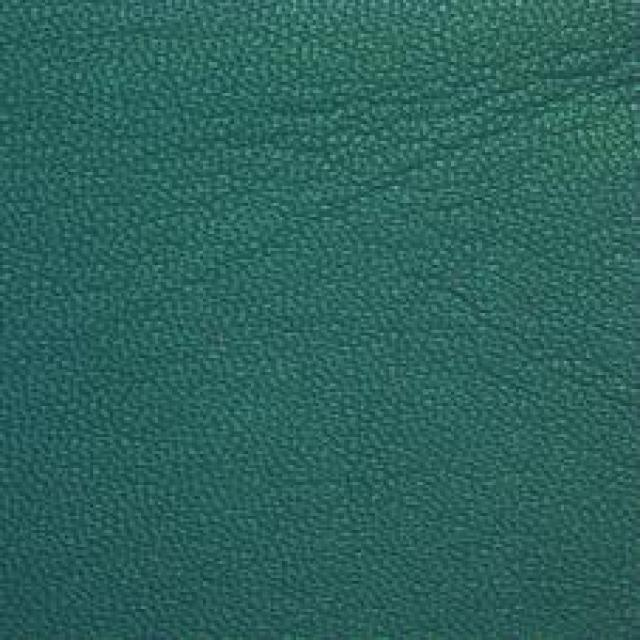Growth Marks: (278, 51, 604, 188)
